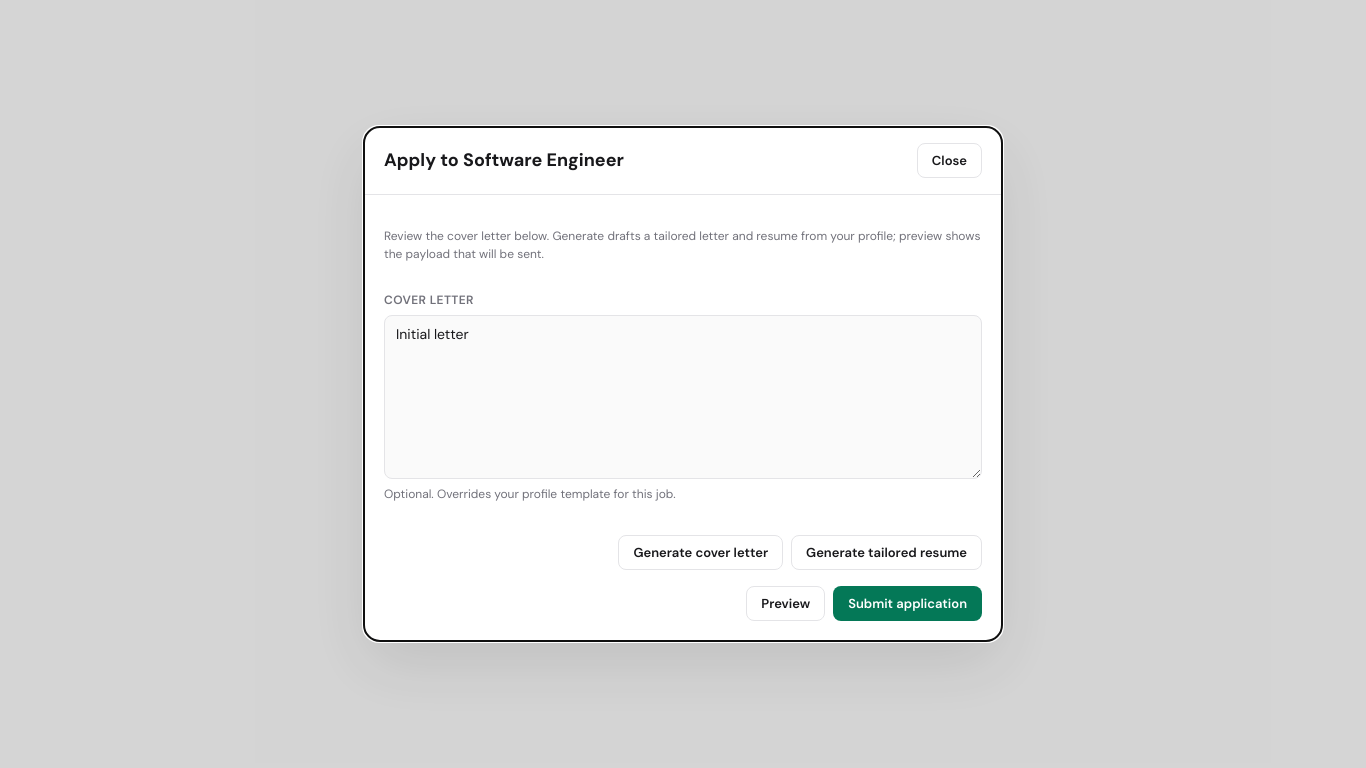
Scenario: ApplyJobDialog apply flow › previews the payload on a dry-run apply
Click the button "Preview": (786, 604) [746,586,825,621]
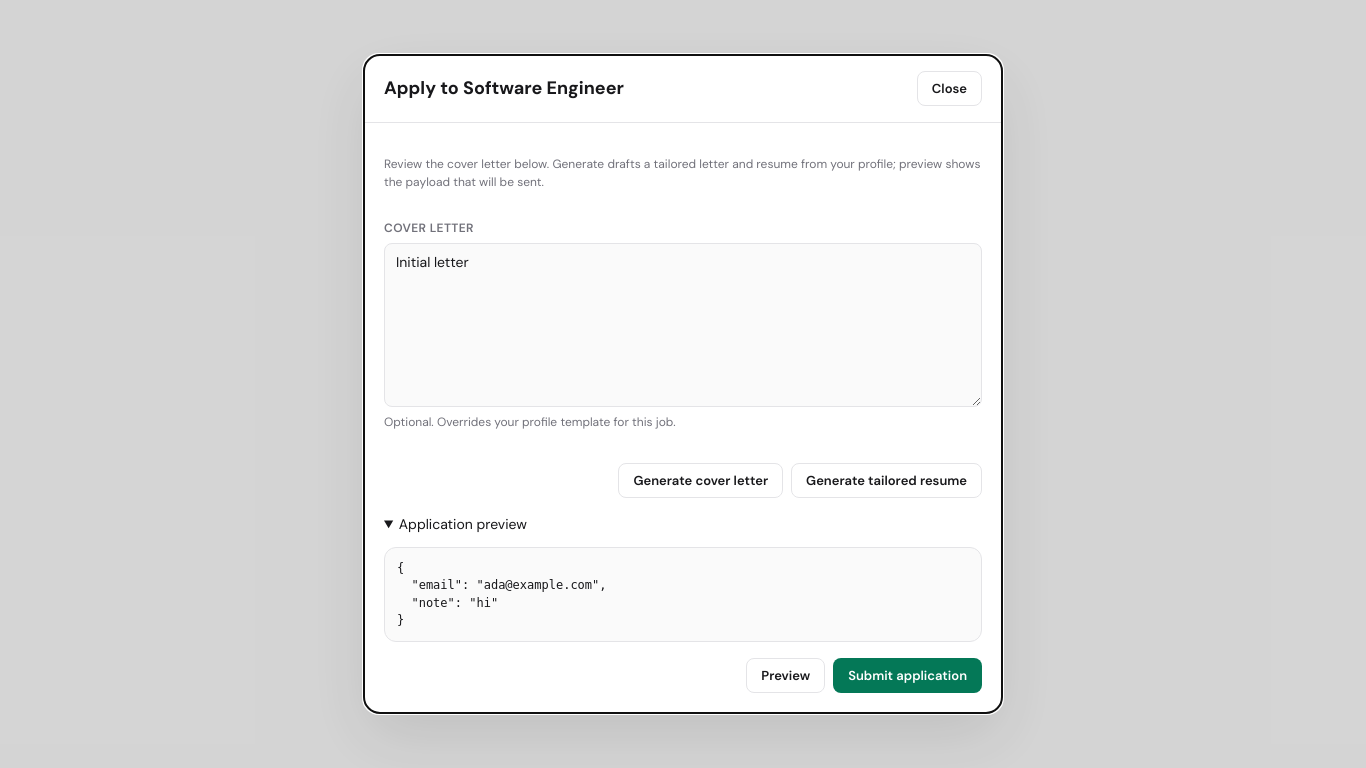
Expected: the heading "Application preview" is shown, [399,515,527,533]
Expected: the text "{ \"email\": \"ada@example.com\", \"note\": \"hi\" }" is shown, [384,547,982,642]
